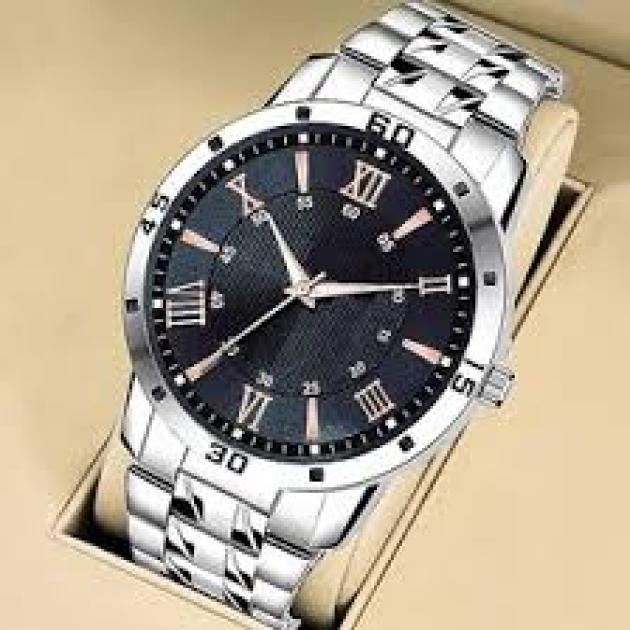wristwatch: (126, 6, 579, 630)
